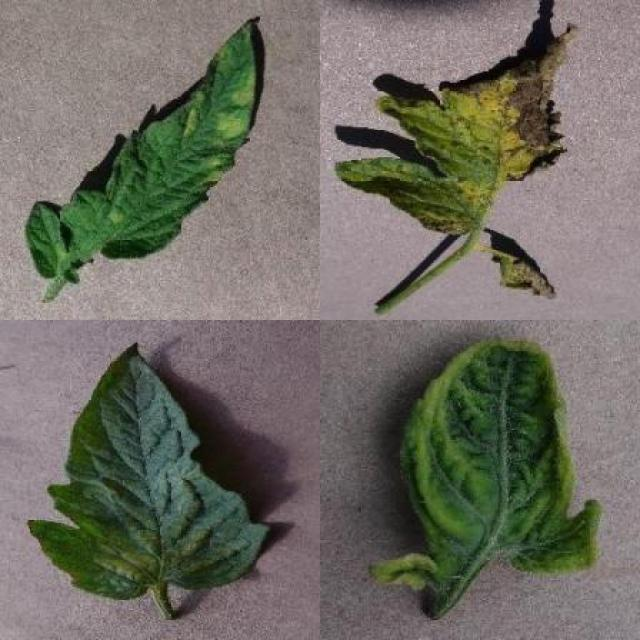Leaf Mold: (25, 19, 258, 280)
Septoria: (334, 23, 582, 236)
Spider Mites: (30, 342, 273, 598)
Yellow Leaf Curl Virus: (397, 332, 602, 574)
